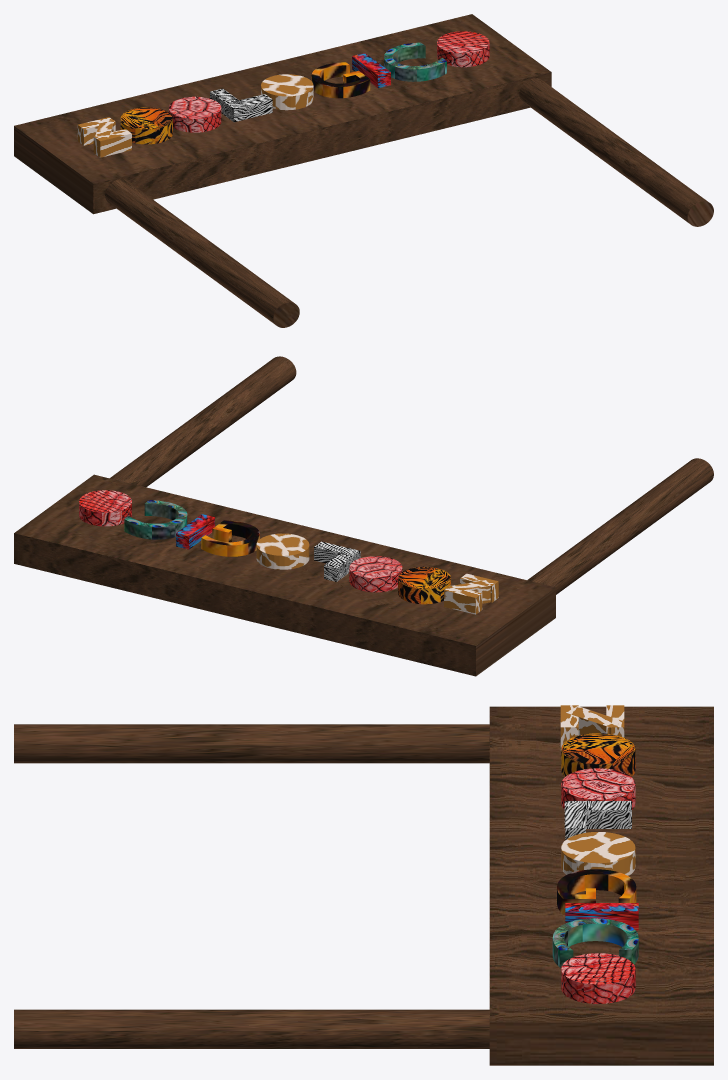
Rendered from zooletre.obj.
3 views of the same model, one above another, from view 1: azimuth 30°, elevation 25°; view 2: azimuth 150°, elevation 25°; view 3: azimuth 270°, elevation 25° (orthographic). The views are drawn at different scales.
Visible parts, largest first — view 1: Cylinder.001_New_Material.001, Circle.004_New_Material.006, Text.002_New_Material.009, Circle.007_New_Material.004, Circle.006_New_Material.005, Text.003_New_Material.007, Circle.005_New_Material.003, Cube.003_New_Material.002, Cube.004_New_Material.008, Cube.005_New_Material.010; view 2: Cylinder.001_New_Material.001, Circle.005_New_Material.003, Circle.007_New_Material.004, Circle.004_New_Material.006, Text.002_New_Material.009, Circle.006_New_Material.005, Text.003_New_Material.007, Cube.003_New_Material.002, Cube.004_New_Material.008, Cube.005_New_Material.010; view 3: Cylinder.001_New_Material.001, Circle.004_New_Material.006, Circle.005_New_Material.003, Circle.007_New_Material.004, Text.002_New_Material.009, Circle.006_New_Material.005, Text.003_New_Material.007, Cube.004_New_Material.008, Cube.003_New_Material.002, Cube.005_New_Material.010.
Boxes of the visible parts, x1,y1,x2,y2 form: Cylinder.001_New_Material.001: (14,14,713,327); Circle.004_New_Material.006: (437,31,489,67); Text.002_New_Material.009: (384,42,446,81); Circle.007_New_Material.004: (120,107,172,144); Circle.006_New_Material.005: (169,96,221,132); Text.003_New_Material.007: (311,62,370,98); Circle.005_New_Material.003: (261,74,313,110); Cube.003_New_Material.002: (77,117,131,157); Cube.004_New_Material.008: (210,88,272,122); Cube.005_New_Material.010: (352,53,390,88); Cylinder.001_New_Material.001: (14,356,713,676); Circle.005_New_Material.003: (256,533,309,569); Circle.007_New_Material.004: (398,566,450,604); Circle.004_New_Material.006: (79,490,131,526); Text.002_New_Material.009: (124,500,187,539); Circle.006_New_Material.005: (349,556,402,592); Text.003_New_Material.007: (201,520,259,556); Cube.003_New_Material.002: (444,573,498,614); Cube.004_New_Material.008: (314,541,360,581); Cube.005_New_Material.010: (176,514,214,549); Cylinder.001_New_Material.001: (14,706,713,1065); Circle.004_New_Material.006: (561,953,635,1003); Circle.005_New_Material.003: (561,832,635,875); Circle.007_New_Material.004: (561,733,635,776); Text.002_New_Material.009: (552,918,638,967); Circle.006_New_Material.005: (561,768,635,809); Text.003_New_Material.007: (557,869,636,914); Cube.004_New_Material.008: (564,801,631,839); Cube.003_New_Material.002: (560,705,624,750); Cube.005_New_Material.010: (565,903,638,930).
Size of the model in its own units: 5.25 by 0.5136 by 4.91.
Materials: 10 (10 with a texture image).
